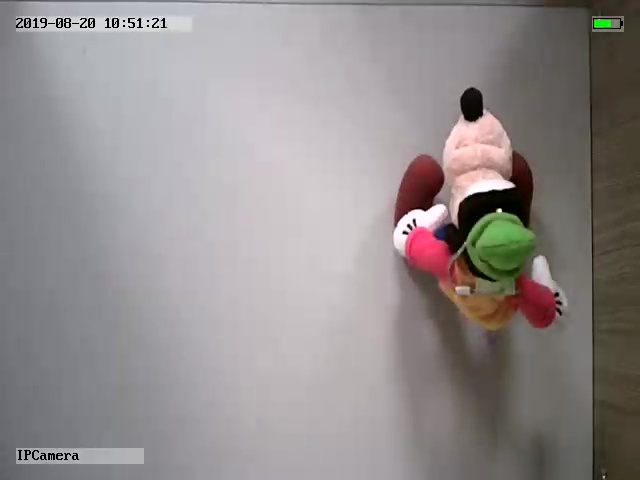goofy: (391, 86, 571, 331)
